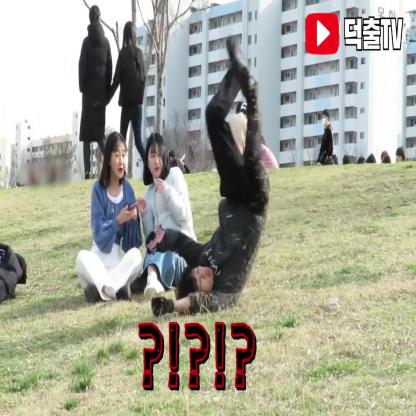Fall_Down: (144, 34, 272, 319)
